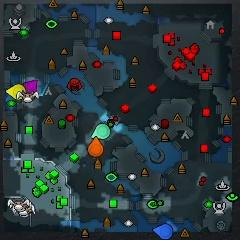p1: (152, 223, 174, 240)
p2: (91, 123, 111, 140)
p3: (23, 80, 38, 98)
p4: (6, 84, 26, 99)
p5: (88, 136, 103, 158)
